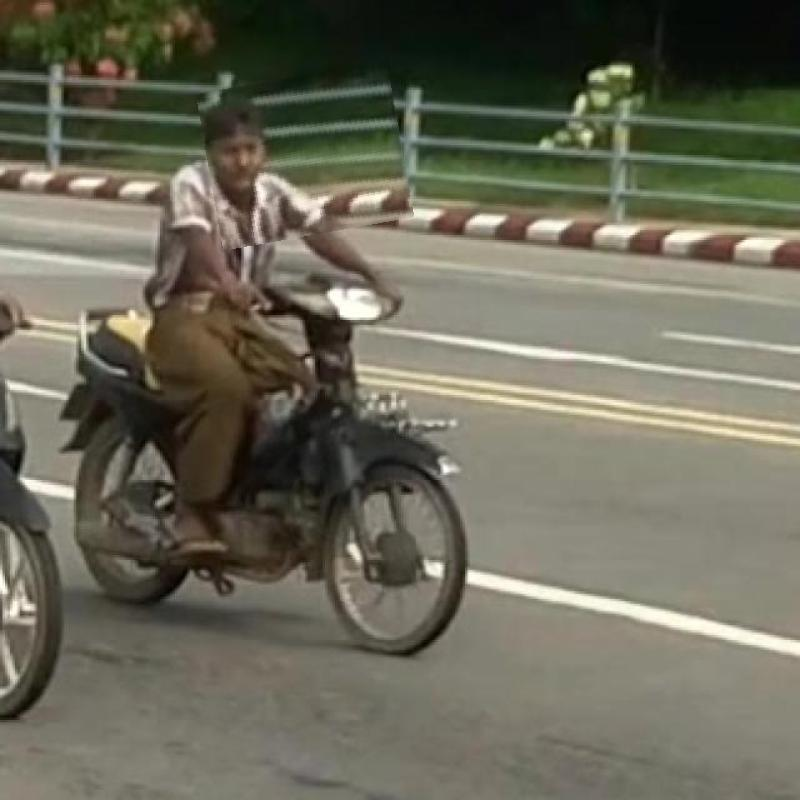nohelmet: (202, 68, 408, 243)
